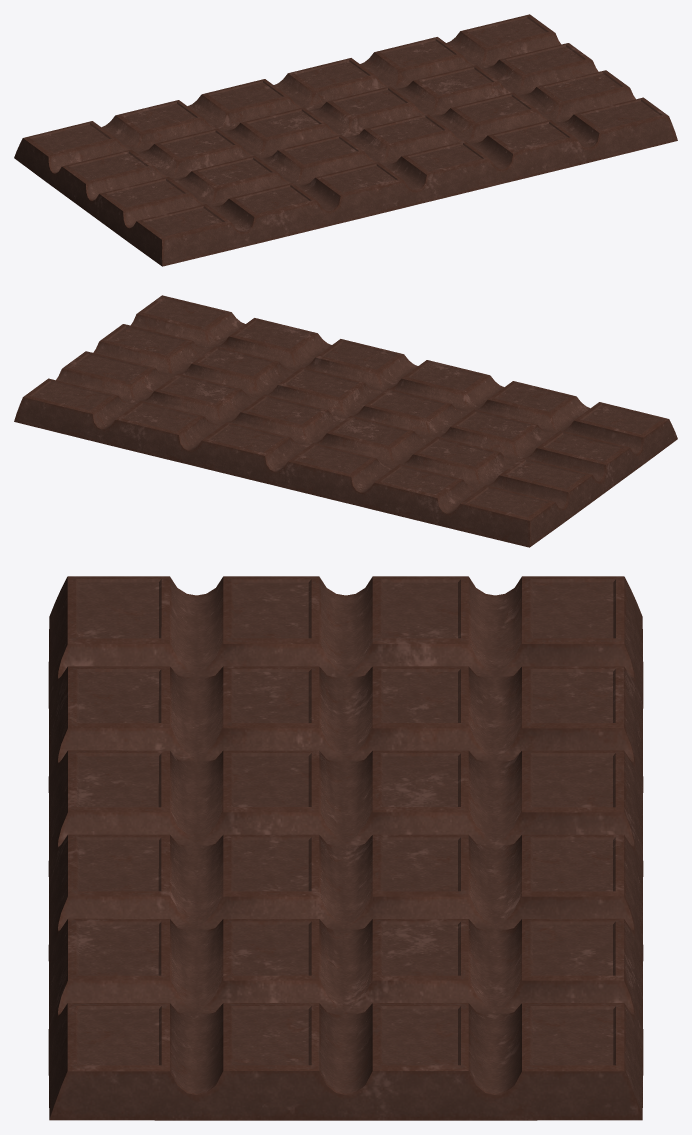
Rendered from Chocolate_FBX.FBX.
The picture shows the model from 3 angles, top to bottom: view 1: azimuth 30°, elevation 25°; view 2: azimuth 150°, elevation 25°; view 3: azimuth 270°, elevation 25°; orthographic projection. The views are drawn at different scales.
Parts seen in each view (by area): view 1: Chocolate; view 2: Chocolate; view 3: Chocolate.
Boxes of the visible parts, box(x1,y1,x2,y2) form: Chocolate: box(14, 14, 677, 266); Chocolate: box(14, 295, 677, 547); Chocolate: box(48, 576, 643, 1120).
Bounding box in the file's own units: 15.97 × 0.6974 × 7.96.
